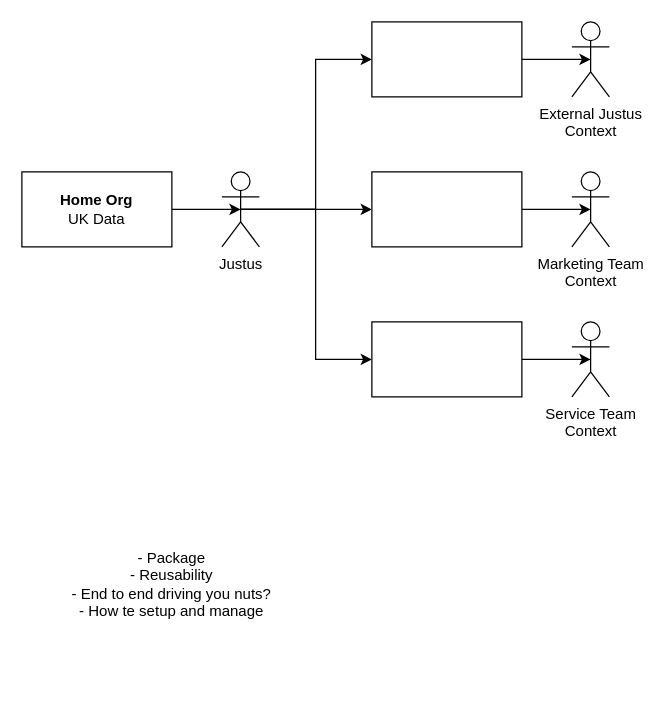
This 665x719 diagram has some shape labels left out. The shapes that lost their labels are listed below. From the top down, each one's box as (x1, y1, x2, y2) in pixels, then its label:
(371, 21, 522, 97): External Org 01 EU Data
(371, 171, 522, 247): External Org 02 US Data
(371, 321, 522, 397): External Org 03 Global Services
